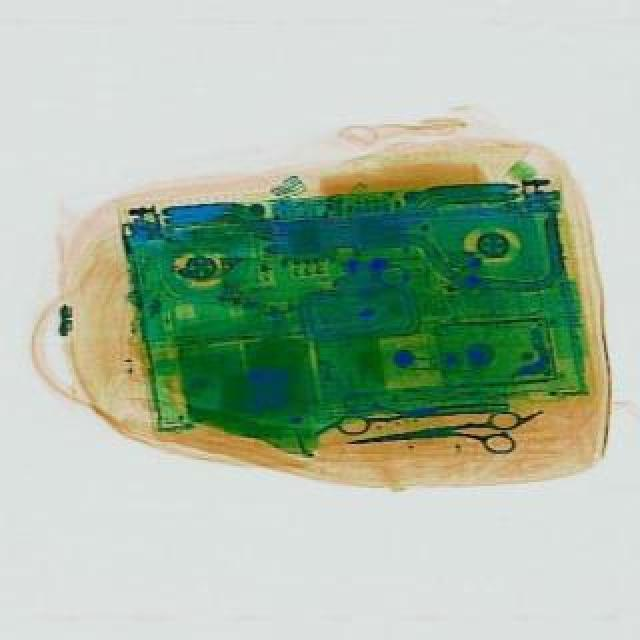pliers: (346, 408, 530, 464), (336, 382, 516, 434)
